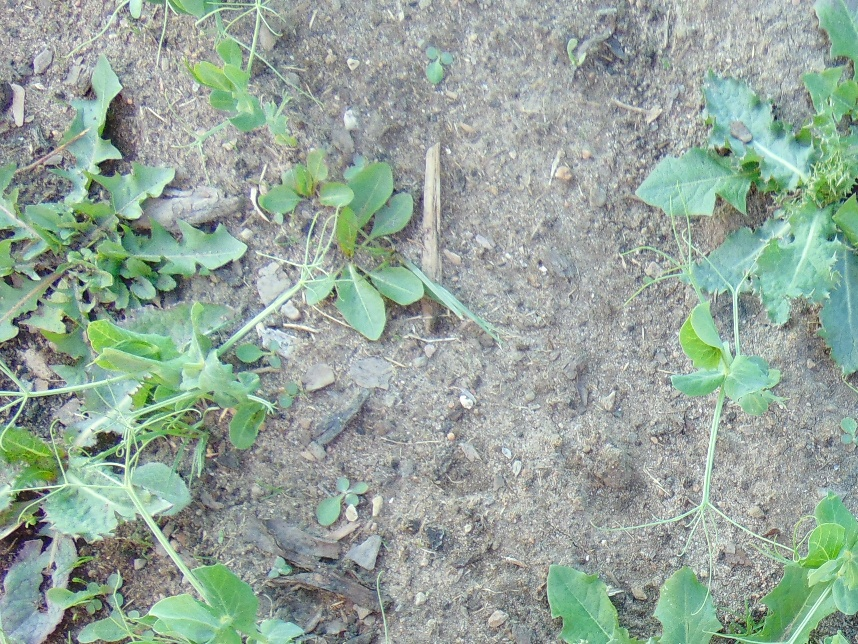crop: (148, 240, 357, 447), (88, 437, 297, 644), (4, 318, 282, 467), (649, 223, 785, 422), (636, 375, 772, 574), (702, 485, 858, 644), (166, 1, 291, 173)
weed: (1, 77, 245, 354), (632, 62, 858, 232), (699, 167, 858, 374), (543, 561, 815, 644), (334, 159, 435, 347), (1, 513, 127, 644), (785, 1, 858, 197), (255, 145, 359, 223), (47, 563, 124, 613), (314, 473, 366, 530), (423, 41, 454, 85)
